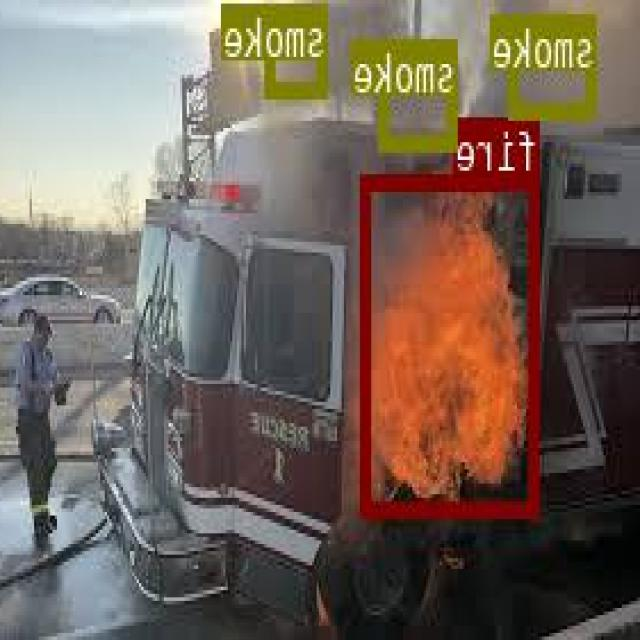fire: (362, 174, 541, 512)
smoke: (511, 13, 599, 116), (383, 37, 459, 149), (268, 1, 329, 94)
